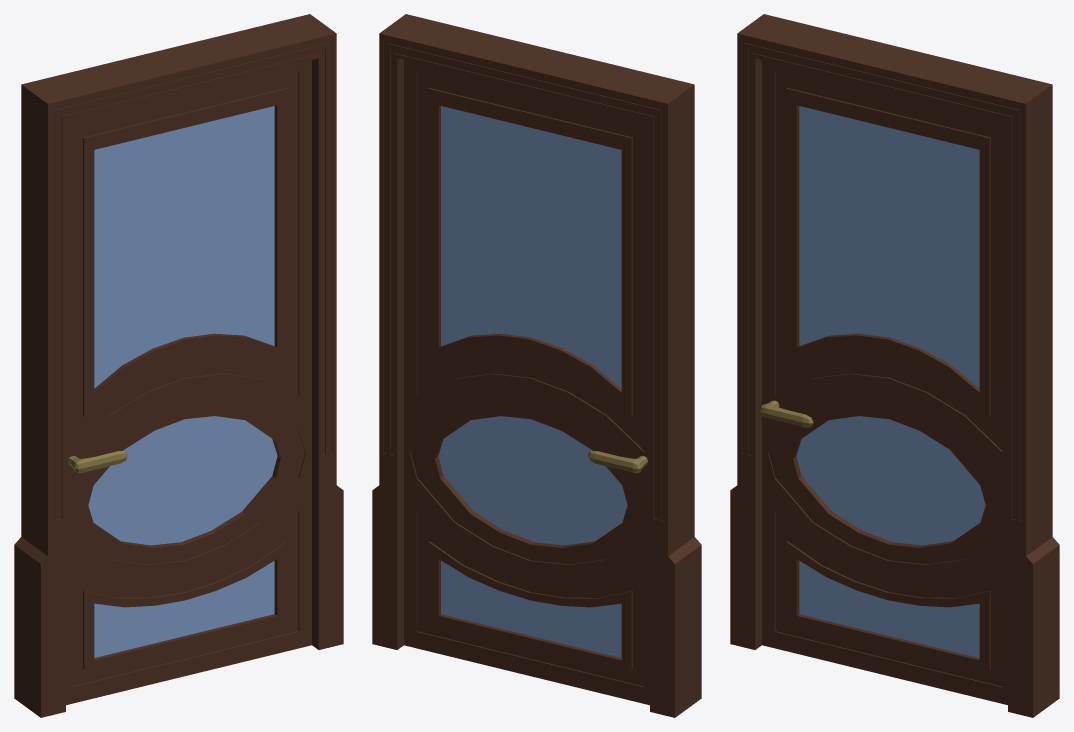
The model's file is door.glb.
3 renders of one model, left to right at view 1: azimuth 30°, elevation 25°; view 2: azimuth 150°, elevation 25°; view 3: azimuth 330°, elevation 25°, orthographic.
Parts seen in each view (by area): view 1: DoorFrame, Door, DoorHandle; view 2: DoorFrame, Door, DoorHandle; view 3: DoorFrame, Door, DoorHandle.
Boxes of the visible parts, left/top/right/bottom form: DoorFrame: left=14, top=14, right=343, bottom=717; Door: left=88, top=106, right=277, bottom=657; DoorHandle: left=68, top=451, right=127, bottom=473; DoorFrame: left=372, top=14, right=701, bottom=717; Door: left=438, top=106, right=627, bottom=657; DoorHandle: left=588, top=451, right=647, bottom=473; DoorFrame: left=730, top=14, right=1059, bottom=717; Door: left=796, top=106, right=985, bottom=657; DoorHandle: left=760, top=400, right=813, bottom=427.
Size of the model in its own units: 1.59 by 3.08 by 0.3199.
